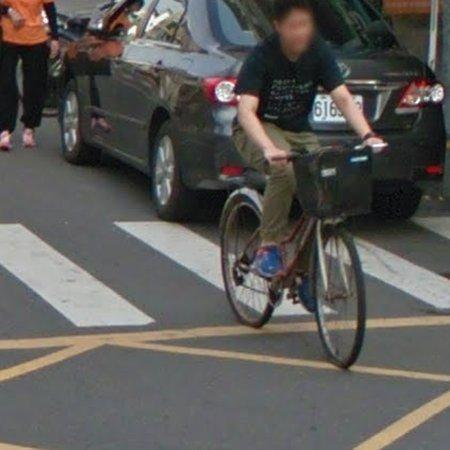crosswalks: (0, 211, 450, 329)
